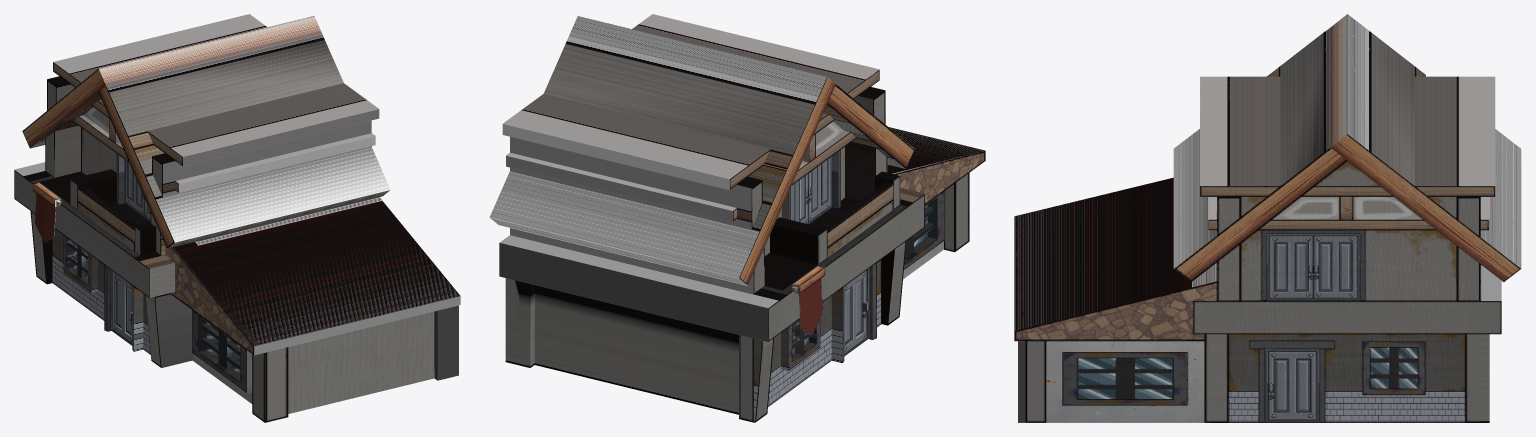
File: House_1_B.fbx
The picture shows the model from 3 angles, left to right: view 1: azimuth 30°, elevation 25°; view 2: azimuth 150°, elevation 25°; view 3: azimuth 270°, elevation 25°; orthographic projection. The views are drawn at different scales.
Visible parts, largest first — view 1: House-1; view 2: House-1; view 3: House-1.
Part boxes in pixels (left/top/right/bottom): House-1: left=14, top=14, right=460, bottom=422; House-1: left=489, top=14, right=985, bottom=422; House-1: left=1014, top=14, right=1521, bottom=422.
Size of the model in its own units: 891 by 912 by 1452.
